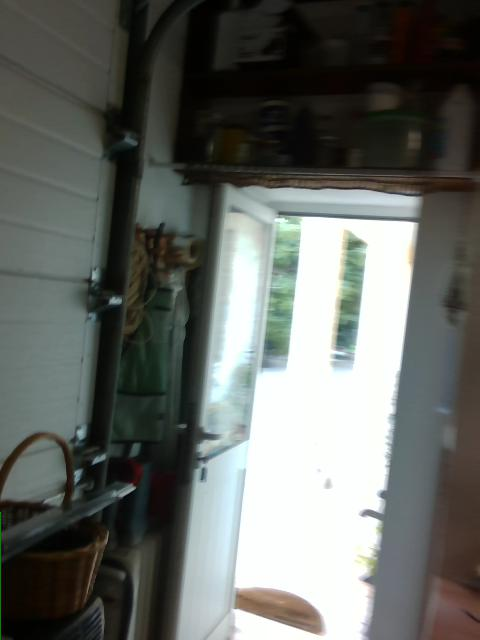open_door: (215, 202, 419, 638)
